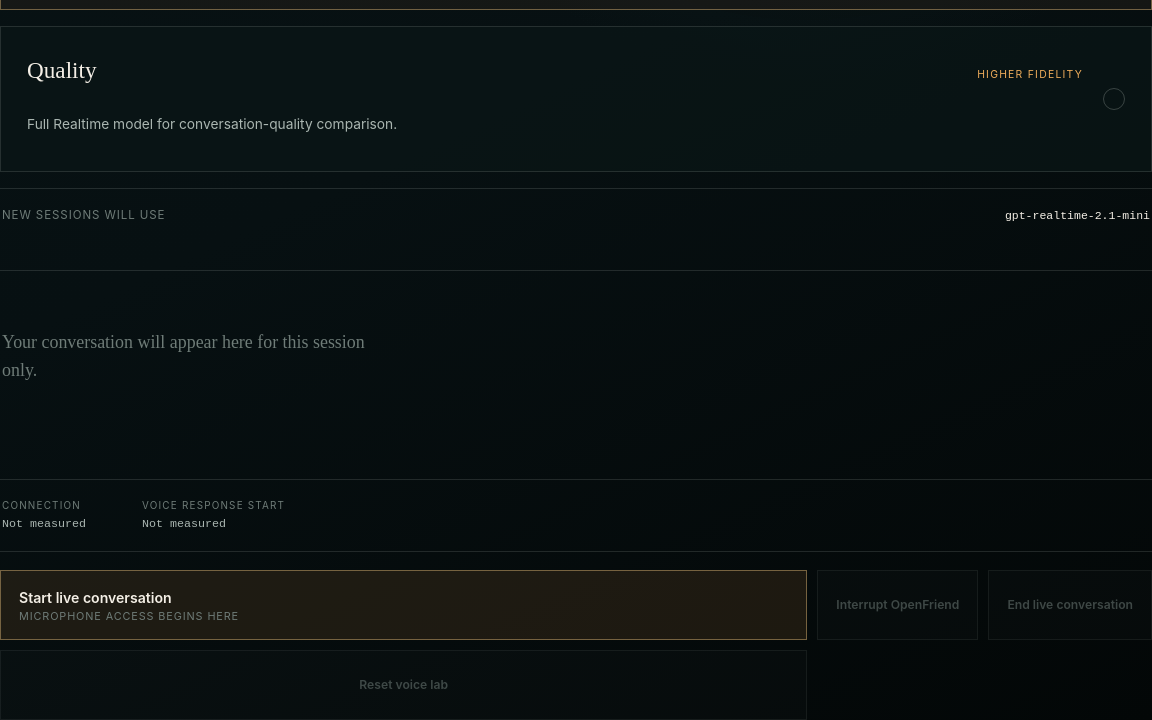
Test: LiveConversationLab › locks the profile choice as soon as a session starts
(page scrolled)
Click the button "Start live conversation Microphone access begins here".
click(95, 597)  # box [0,570,807,640]
(page scrolled)
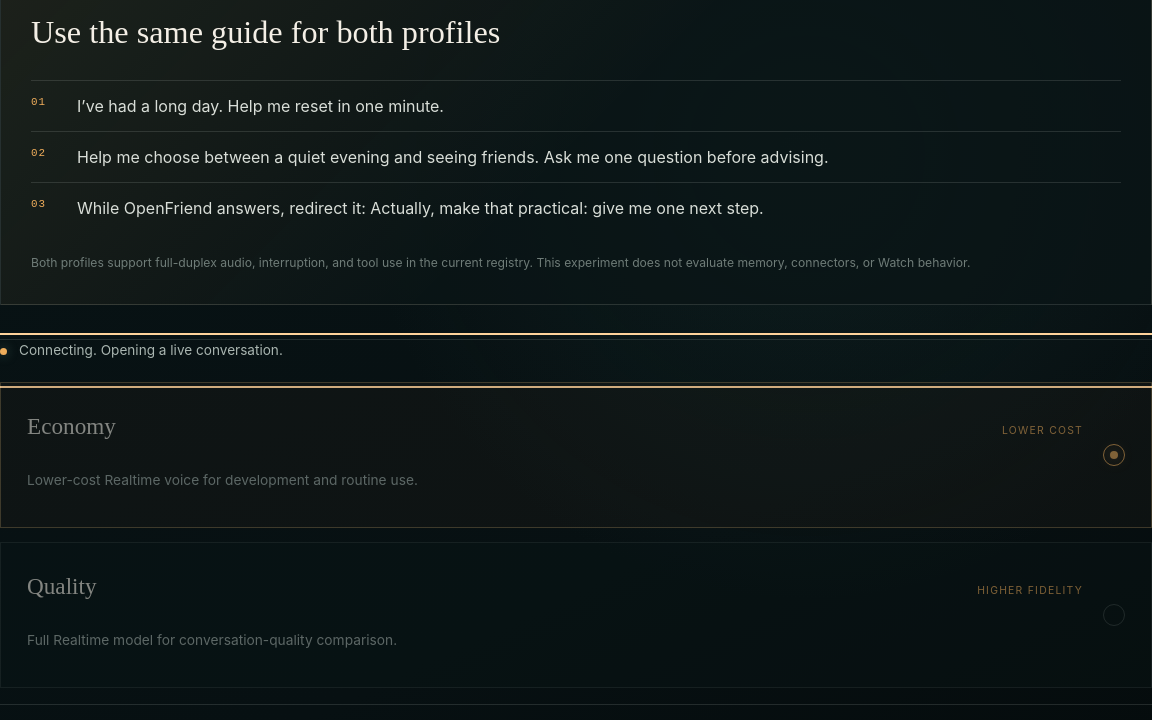
Expected: the radio button labelled "Economy" is disabled, [0,382,1151,528]
Expected: the radio button labelled "Quality" is disabled, [0,542,1151,688]
